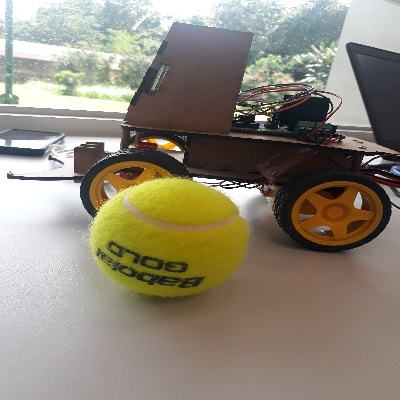Ball: (87, 175, 251, 300)
Robot: (6, 21, 395, 252)
